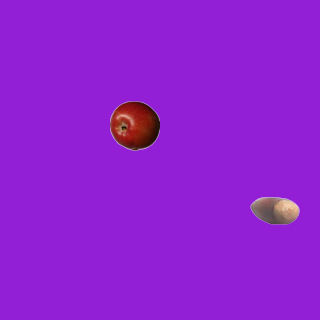Apple Braeburn: (109, 100, 159, 150)
Hazelnut: (249, 185, 299, 235)
